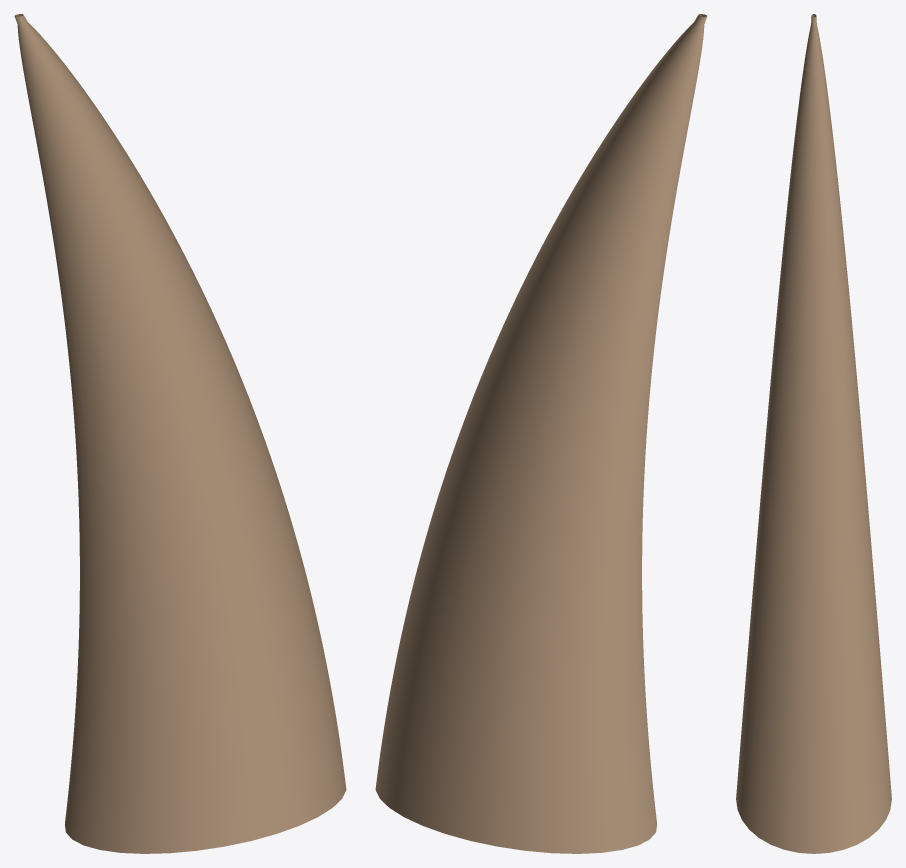
File: tooth.glb
3 views of the same model, side by side, from view 1: azimuth 30°, elevation 25°; view 2: azimuth 150°, elevation 25°; view 3: azimuth 270°, elevation 25° (orthographic). The views are drawn at different scales.
Visible parts, largest first — view 1: crown, root, tip; view 2: crown, root, tip; view 3: crown, root, tip.
Boxes of the visible parts, <box> form: crown: <box>50,203,301,613</box>; root: <box>65,558,346,853</box>; tip: <box>14,14,156,230</box>; crown: <box>420,203,671,613</box>; root: <box>375,558,656,853</box>; tip: <box>565,14,707,230</box>; crown: <box>752,235,875,638</box>; root: <box>736,595,891,853</box>; tip: <box>784,14,843,254</box>.
Size of the model in its own units: 0.608 by 1.5 by 0.3.
